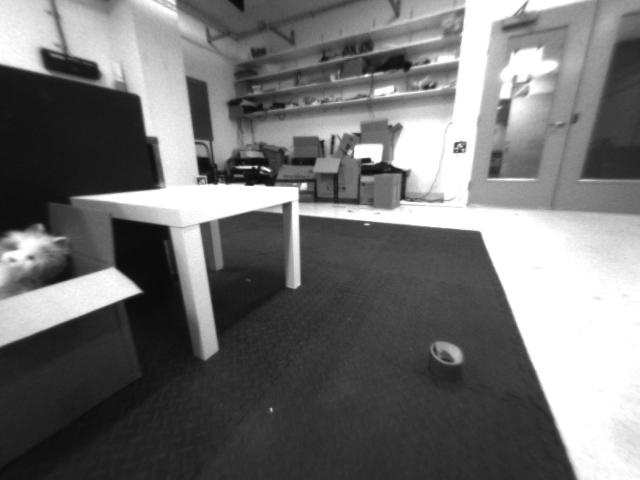dogtoy: (411, 322, 483, 389)
